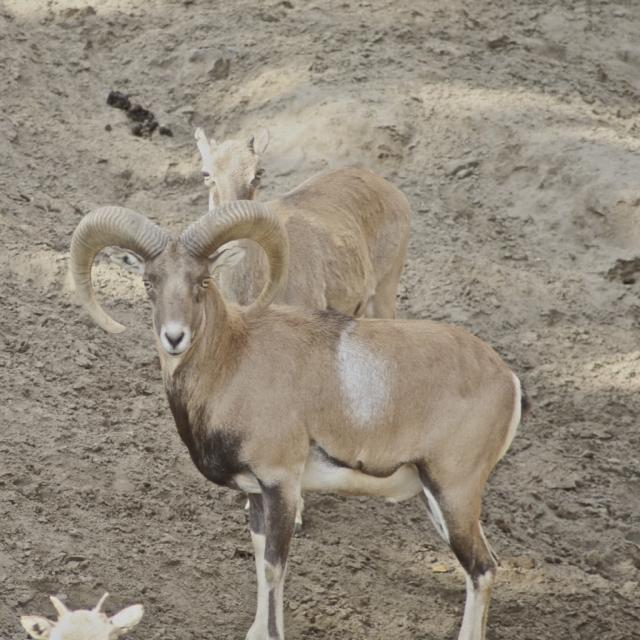Sheep: (69, 202, 522, 640)
